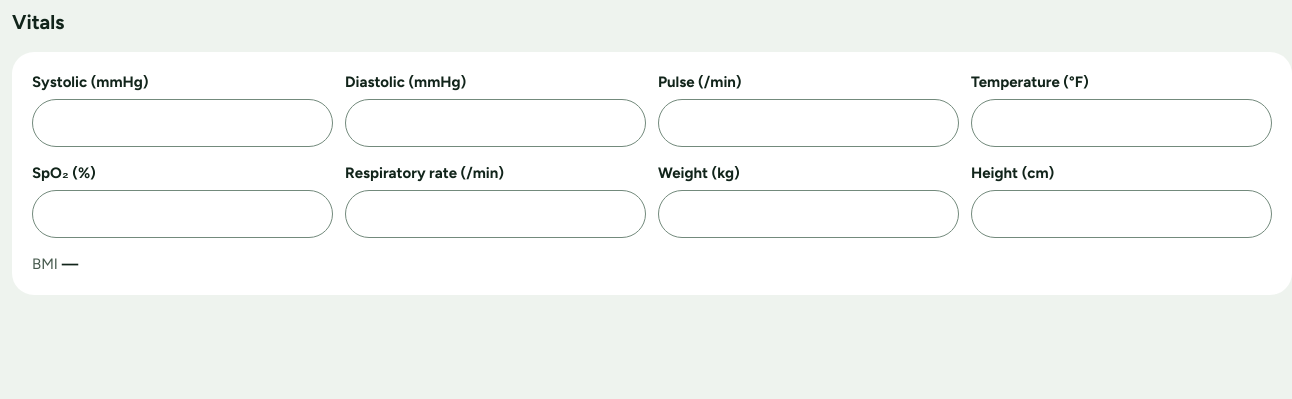
VitalsSection (plan §12.2; D202, D206) › saves nothing while a reading is wrong, saying why under it
Type "999" into the field labelled "Pulse (/min)" at (808, 123), box [658, 99, 959, 147]
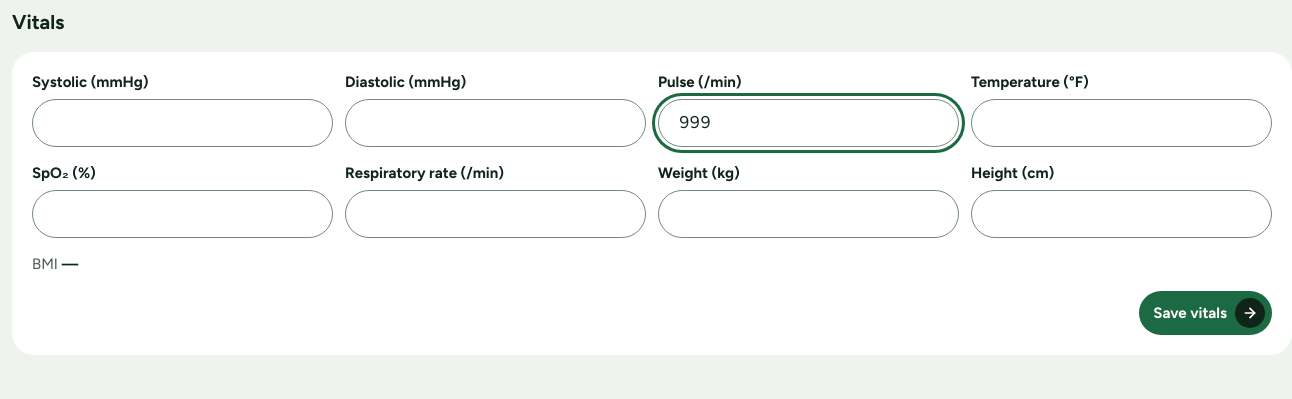
Click the button "Save vitals" at (1206, 313), box [1139, 291, 1272, 335]
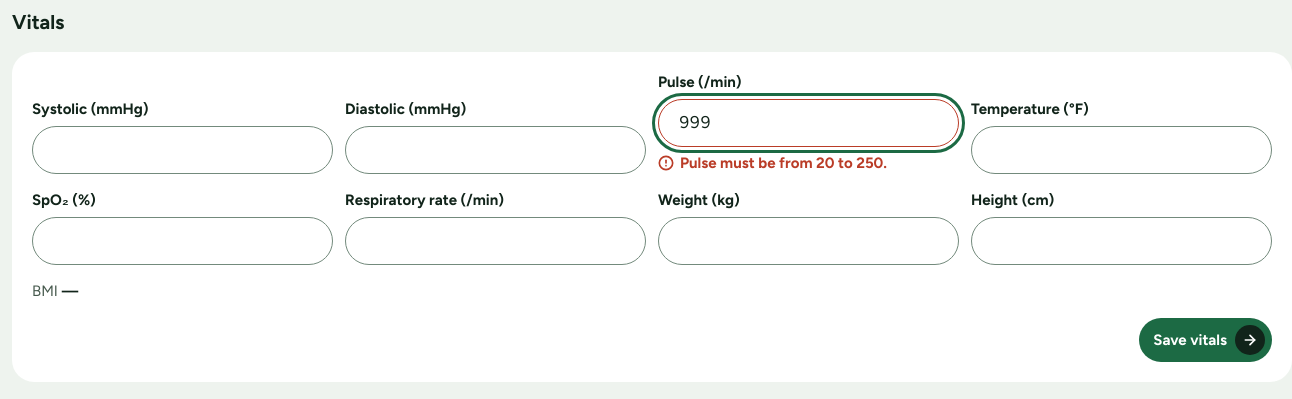
Check: the text "Pulse must be from 20 to 250." is shown, box [658, 154, 887, 172]
